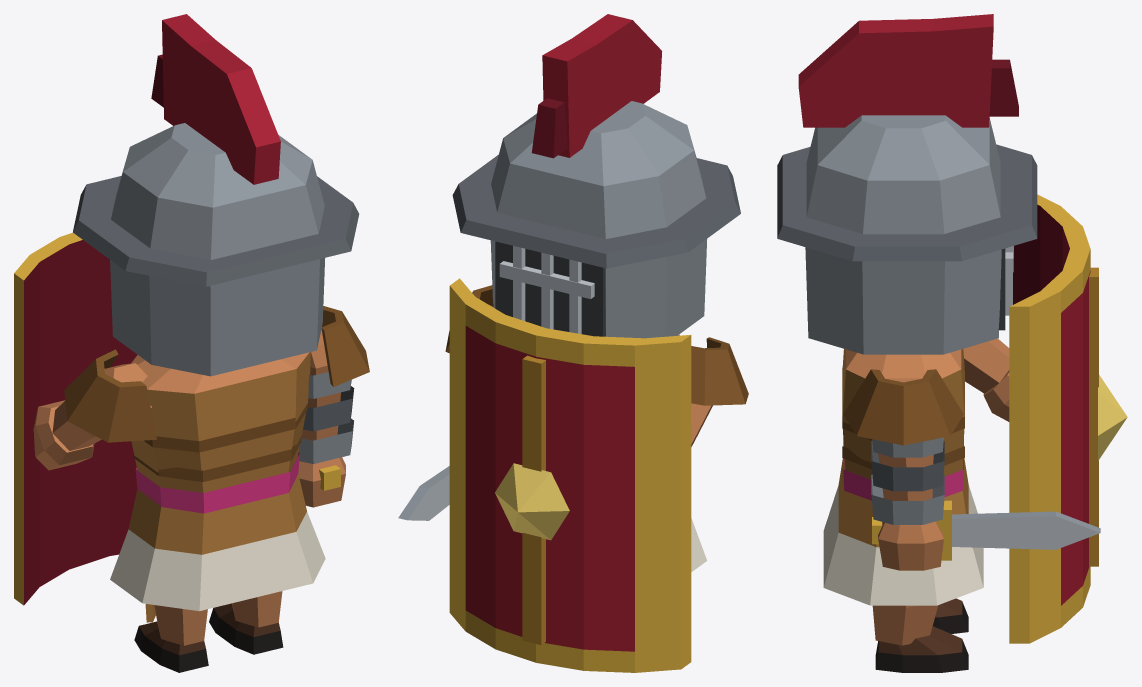
The model's file is EN_Champion.fbx.
3 renders of one model, left to right at view 1: azimuth 30°, elevation 25°; view 2: azimuth 150°, elevation 25°; view 3: azimuth 270°, elevation 25°, orthographic. The views are drawn at different scales.
Parts seen in each view (by area): view 1: Head, Body, ArmL, ArmR, LegL, LegR; view 2: ArmL, Head, ArmR; view 3: Head, ArmL, ArmR, Body, LegR, LegL.
Part boxes in pixels (box(x1,y1,x2,y2)): Head: box(73, 14, 359, 376); Body: box(110, 352, 325, 611); ArmL: box(14, 232, 156, 605); ArmR: box(298, 306, 369, 507); LegL: box(134, 604, 208, 672); LegR: box(209, 591, 283, 654); ArmL: box(449, 278, 748, 672); Head: box(452, 14, 740, 338); ArmR: box(398, 285, 493, 520); Head: box(777, 14, 1037, 354); ArmL: box(963, 194, 1127, 643); ArmR: box(843, 369, 1100, 570); Body: box(823, 349, 983, 605); LegR: box(872, 605, 968, 672); LegL: box(932, 598, 968, 633).
Size of the model in its own units: 1.67 by 1.65 by 3.24.
